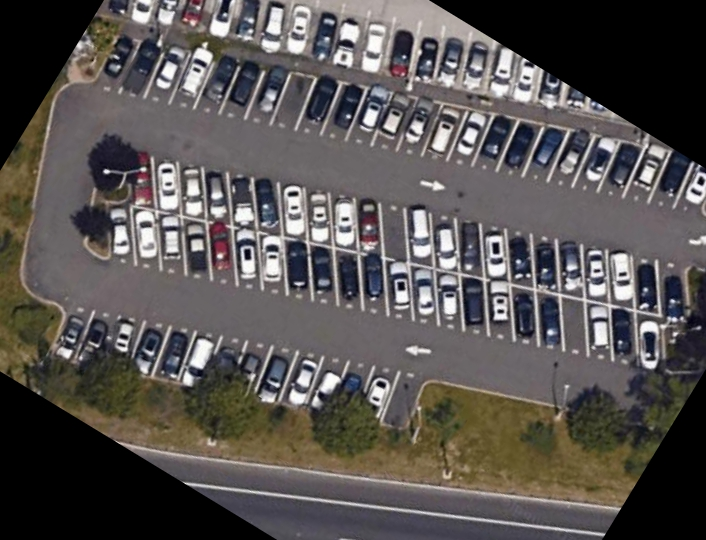parkingspot: (103, 139, 692, 379), (84, 30, 706, 218), (95, 0, 636, 127), (43, 302, 432, 432)
